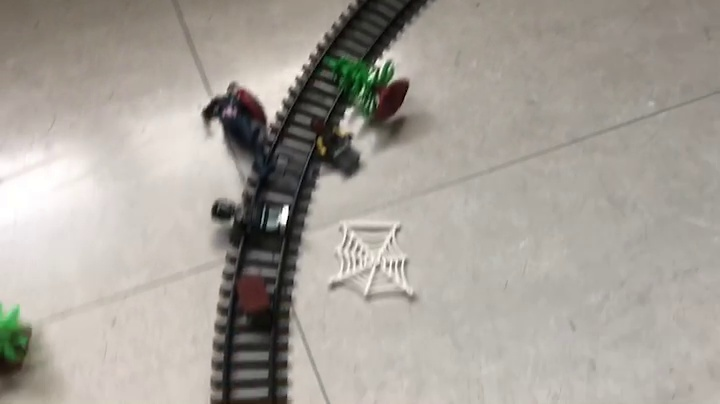box: (233, 274, 275, 327)
people: (201, 82, 285, 185), (211, 192, 290, 240), (305, 118, 366, 175)
tree: (319, 53, 412, 121)
web: (328, 218, 417, 303)
